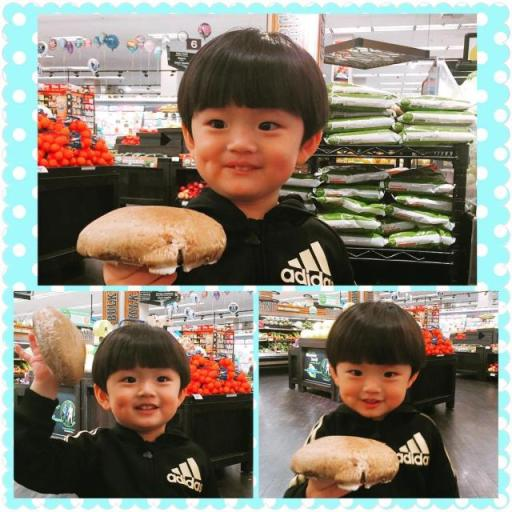Adidas: (164, 454, 204, 494)
